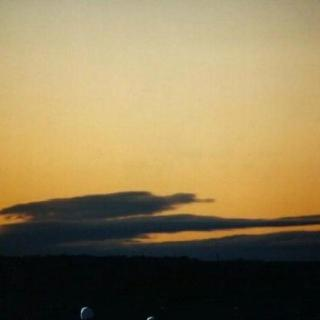Stratocumulus: (0, 185, 320, 248)
